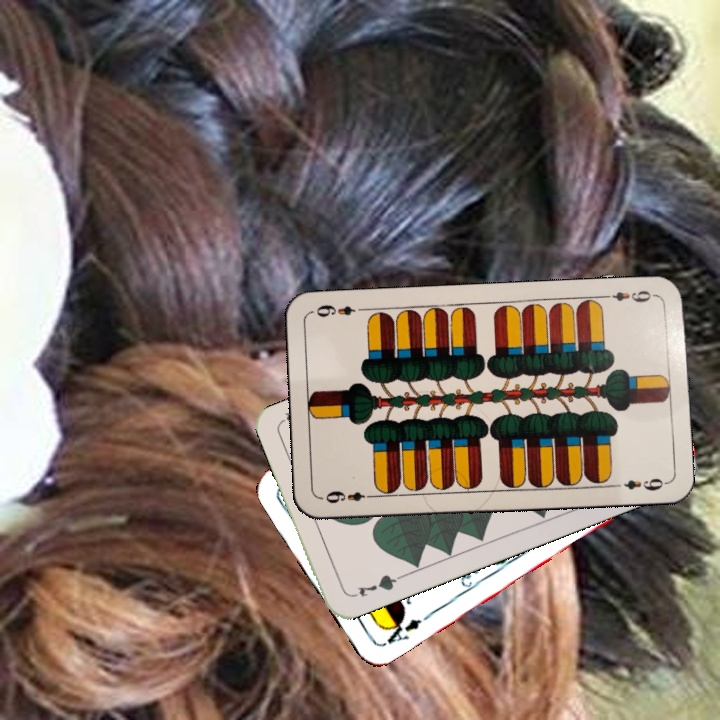E9: (321, 486, 378, 506), (600, 286, 659, 305)
EA: (378, 613, 425, 649)
G7: (347, 570, 404, 601)
